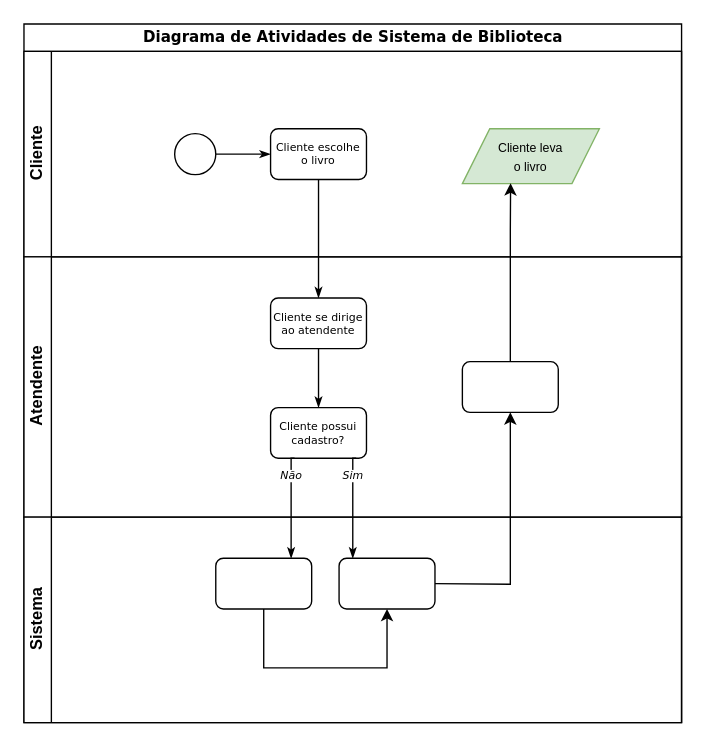
Image size: 706x747. Some labels were removed from this diagram. Each missing label, with the centre of its shape:
Acesso do cadastro: the point at 386,583
Atendente registra o livro: the point at 509,386
Cliente cria cadastro novo: the point at 263,583
Início: the point at 194,153
